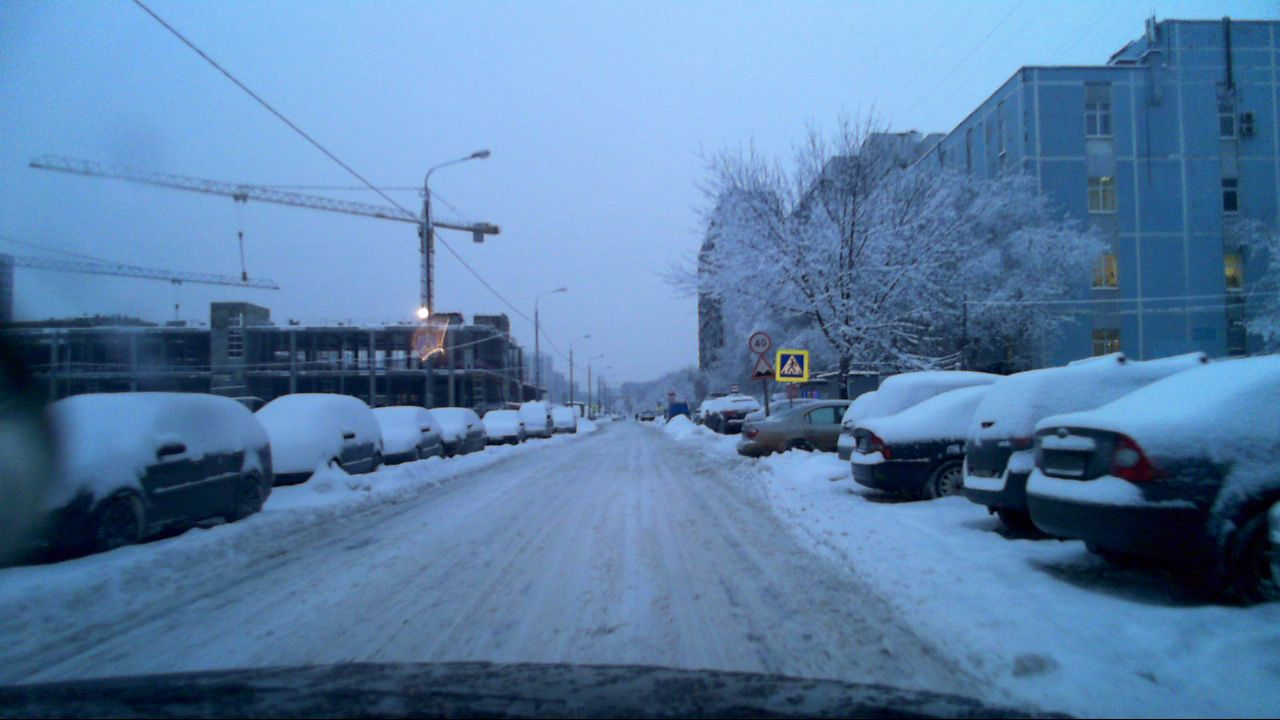speed_warning_40: (747, 331, 770, 354)
